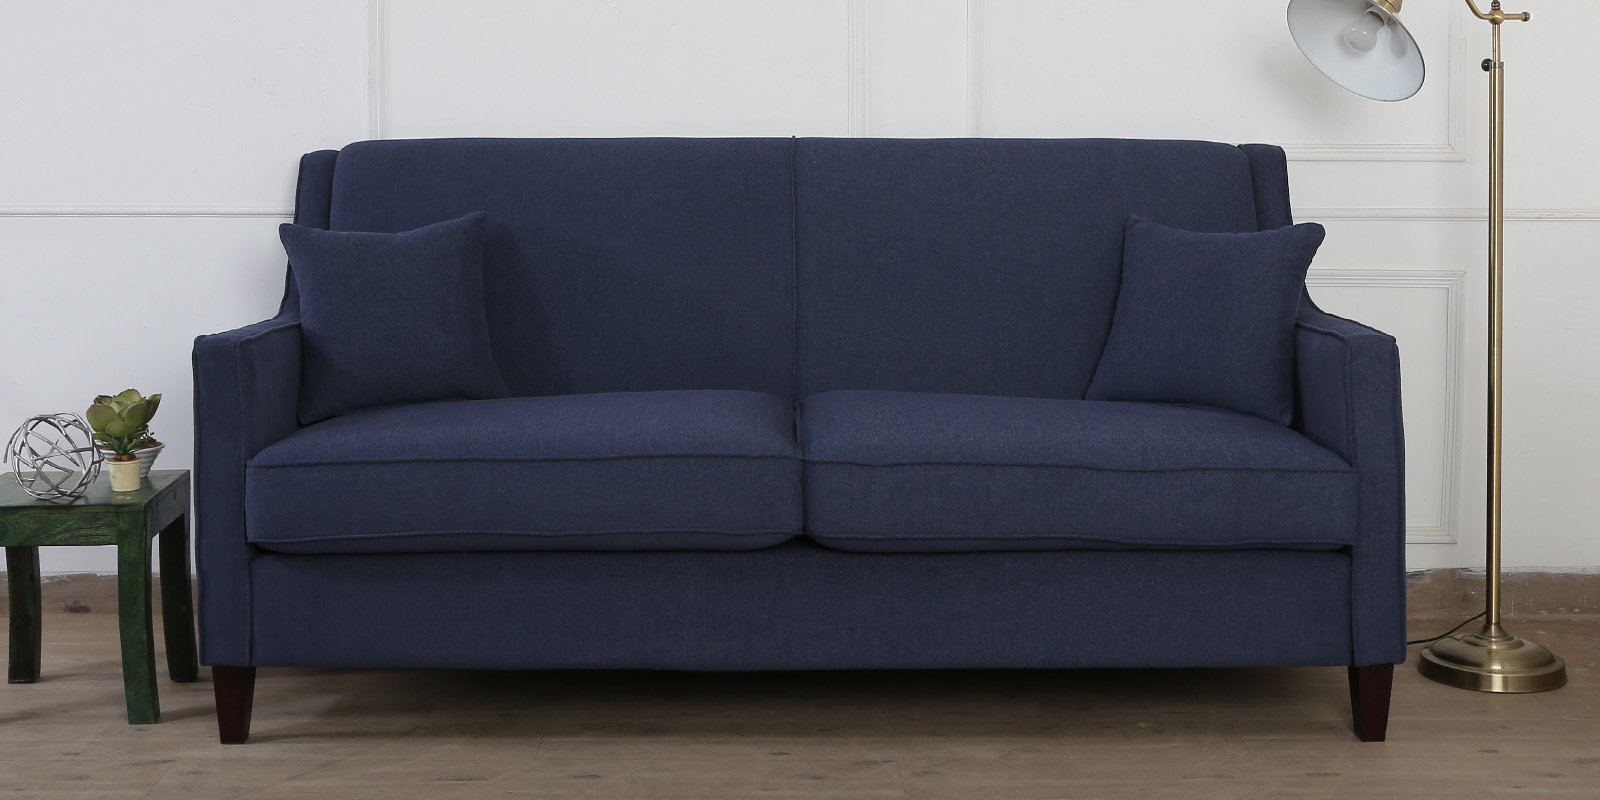Oscar Three Seater Sofa in Navy Blue Colour by CasaCraft: (190, 134, 1407, 742)
